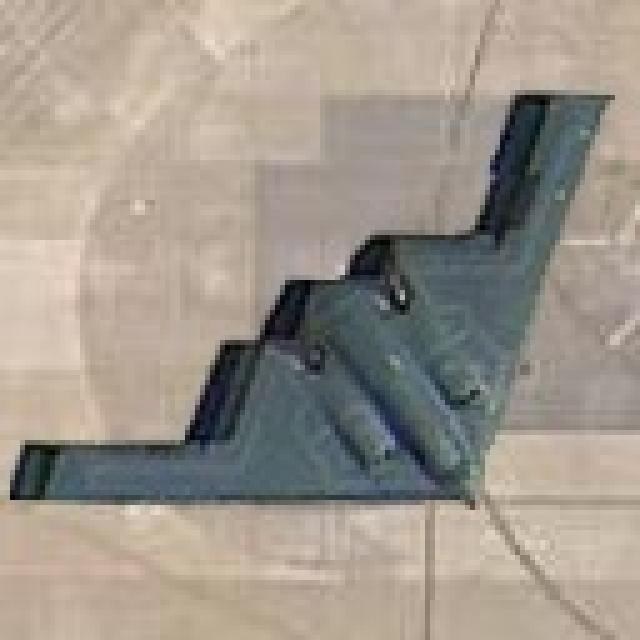B-2_TopDown: (5, 80, 615, 510)
